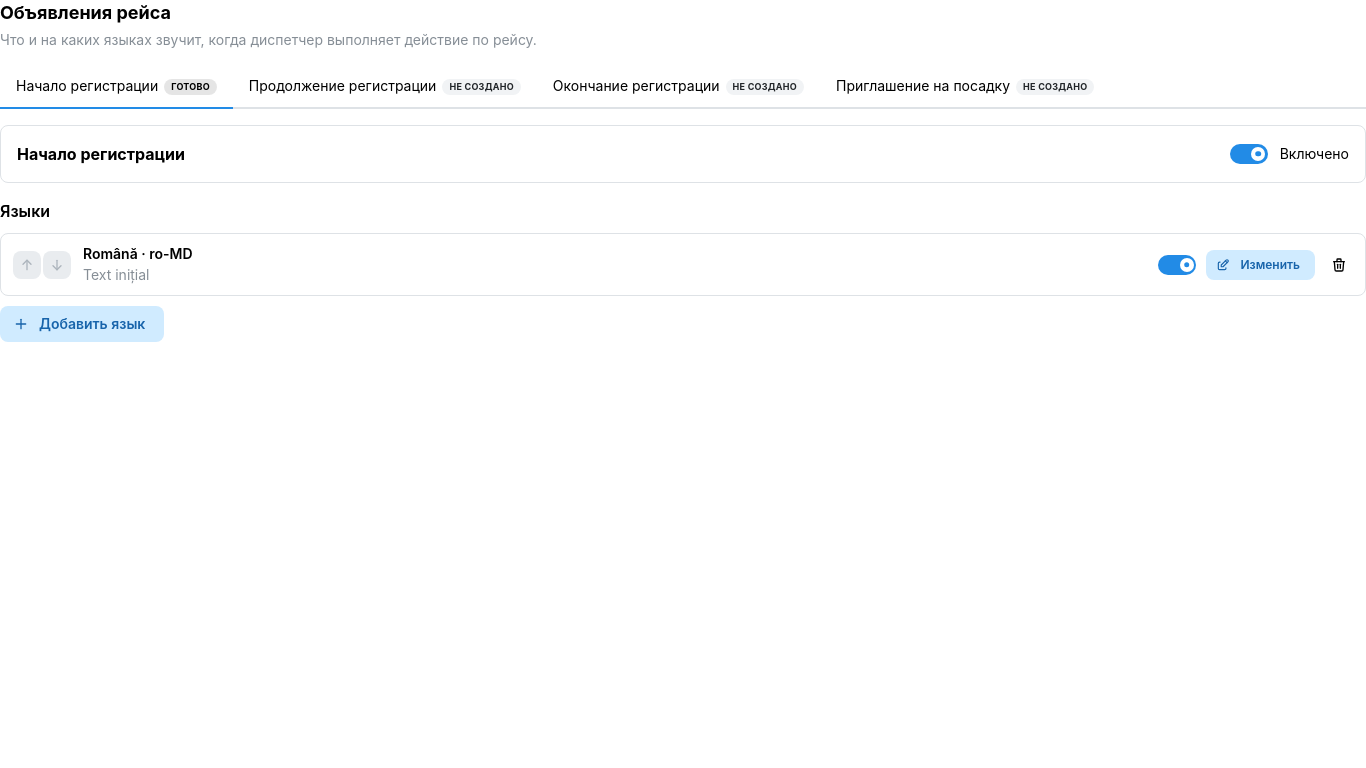
Test: FlightAnnouncementConfigsPanel › edits one variant through the modal and saves it with a single button
The image size is (1366, 768).
Click the button "Изменить". click: (1261, 265)
box: [1206,250,1315,280]
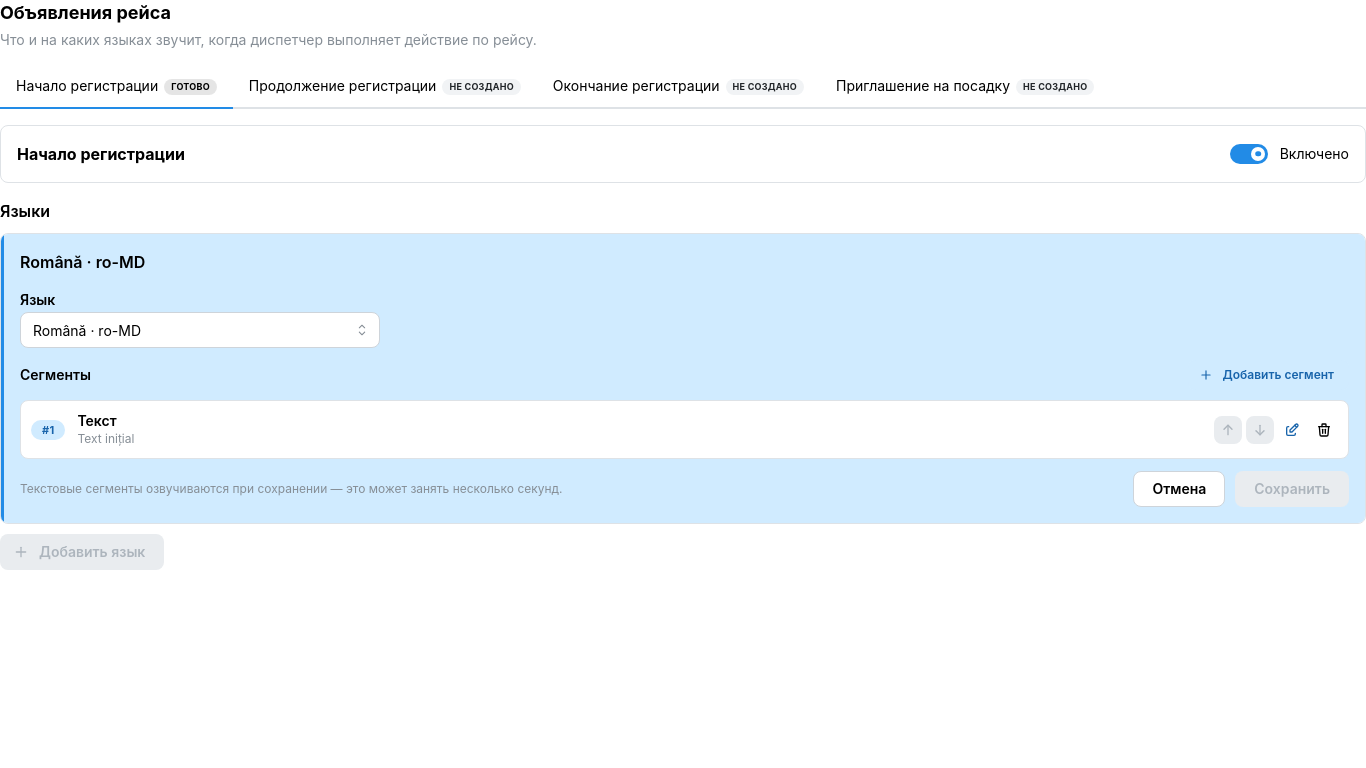
Expected: the button "Сохранить" is disabled, [1235,471,1349,507]
Click the button named "Редактировать сегмент 1 (варианта ro-MD)". click: (1292, 430)
box: [1278,416,1306,444]
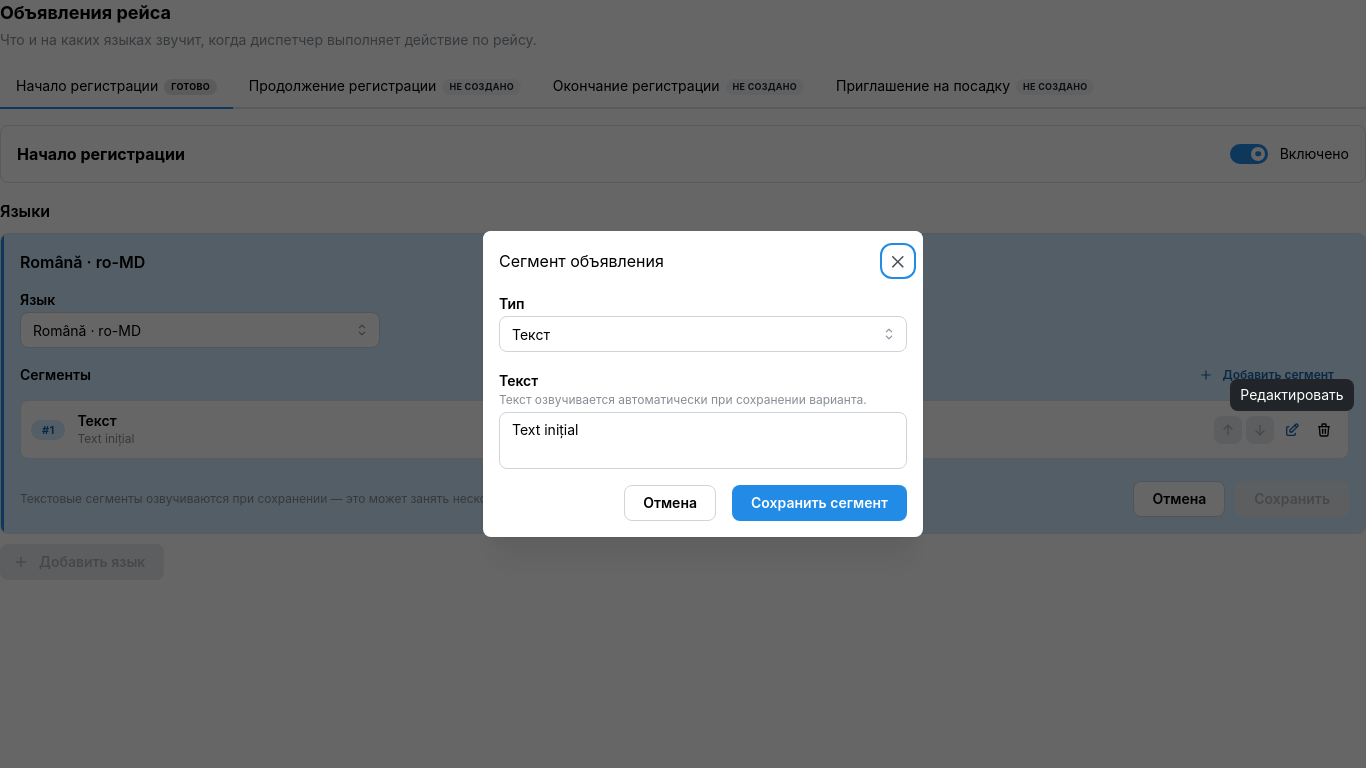
Replace the text in the text box labelled "Текст" with "Text actualizat". click: (703, 440)
box: [499,412,907,469]
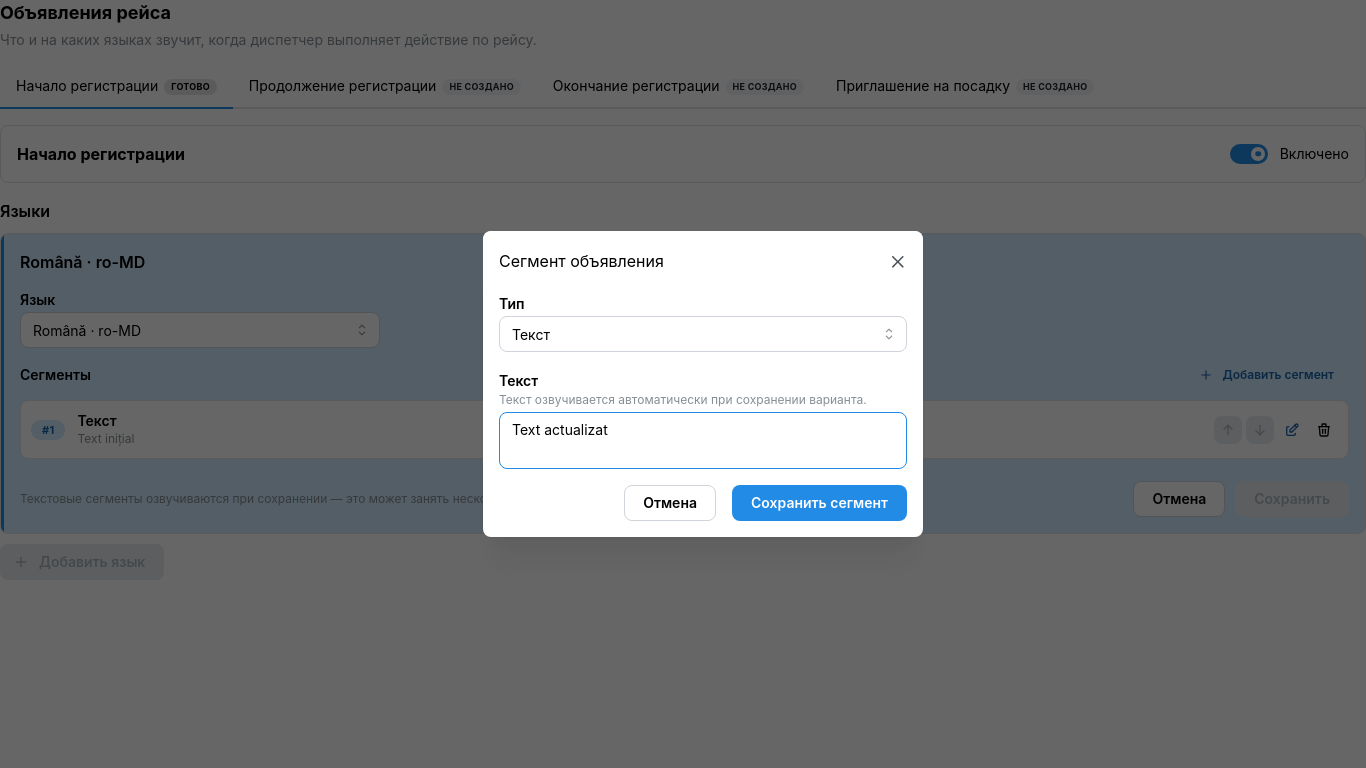
Click the button "Сохранить сегмент". click: (820, 503)
box: [732,485,907,521]
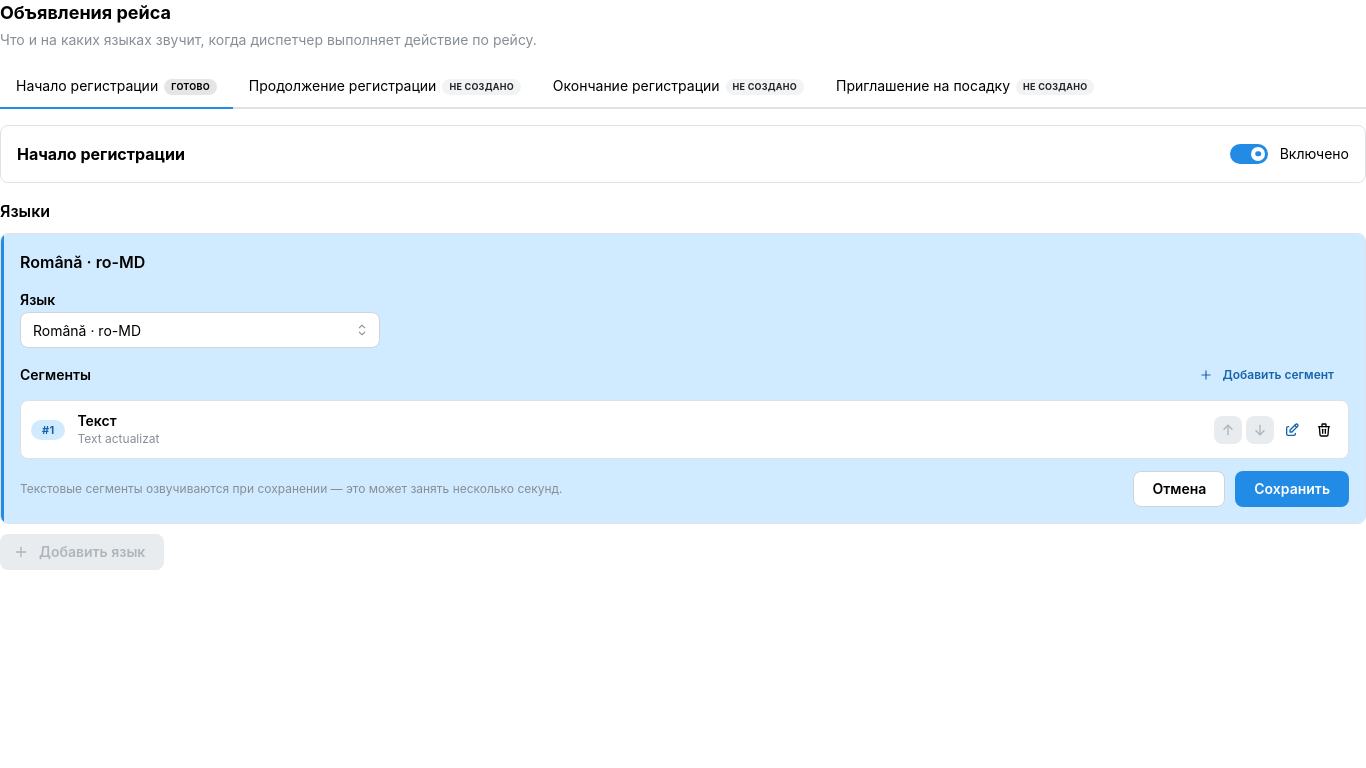
Expected: the button "Сохранить" is enabled
Click the button "Сохранить". click: (1292, 489)
box: [1235,471,1349,507]
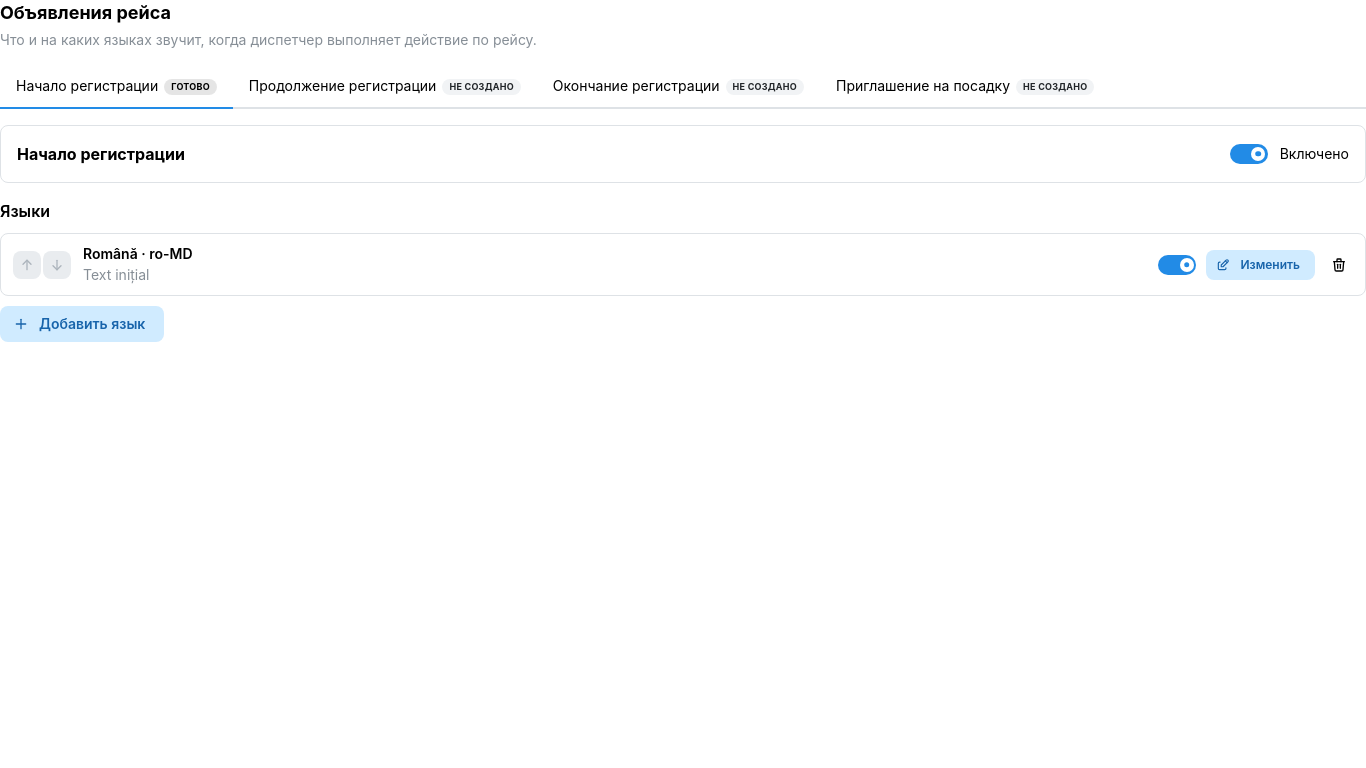
Expected: the button "Сохранить" is gone
